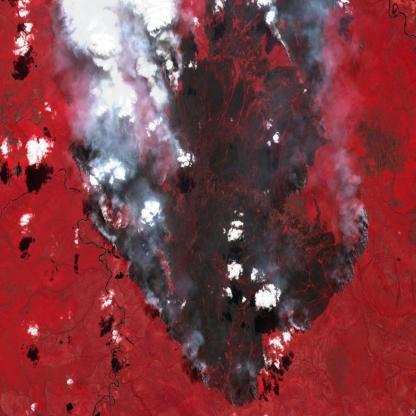fire: (78, 0, 373, 416)
